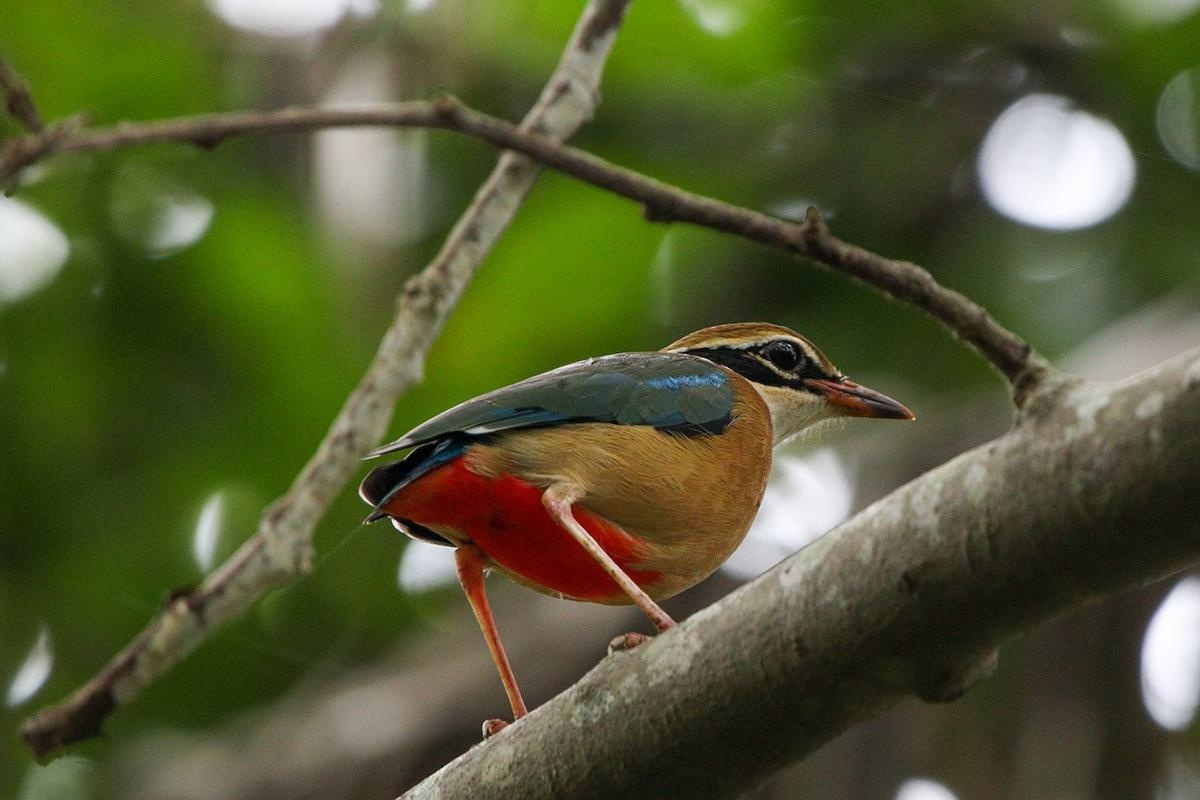pitta: (373, 282, 923, 736)
